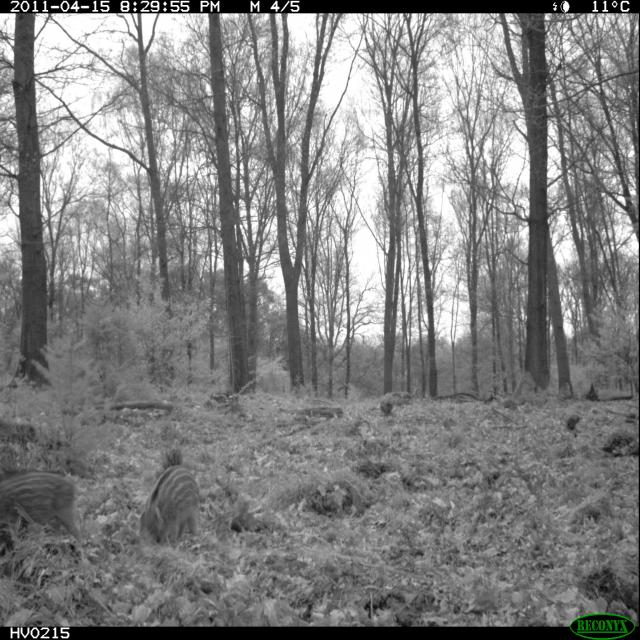boar: (133, 430, 212, 564), (0, 455, 92, 564)
